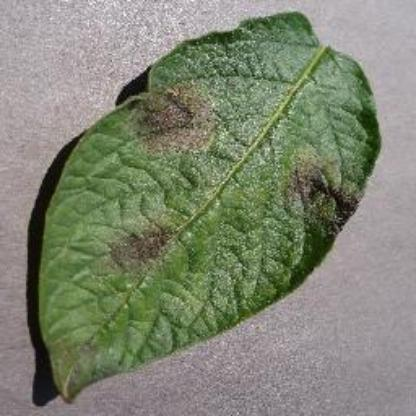Late-Blight: (28, 8, 384, 408)
